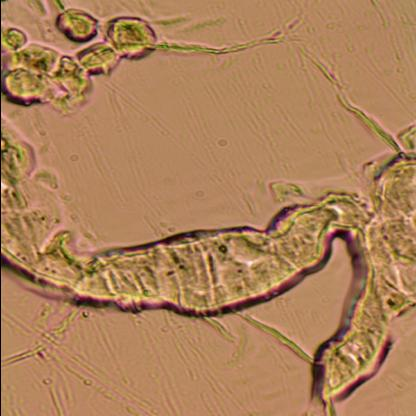Normal: (0, 134, 416, 404)
